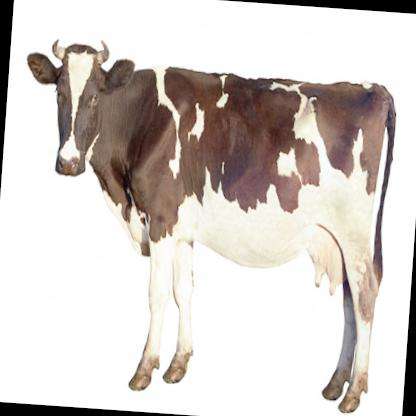Cow: (5, 24, 412, 415)
